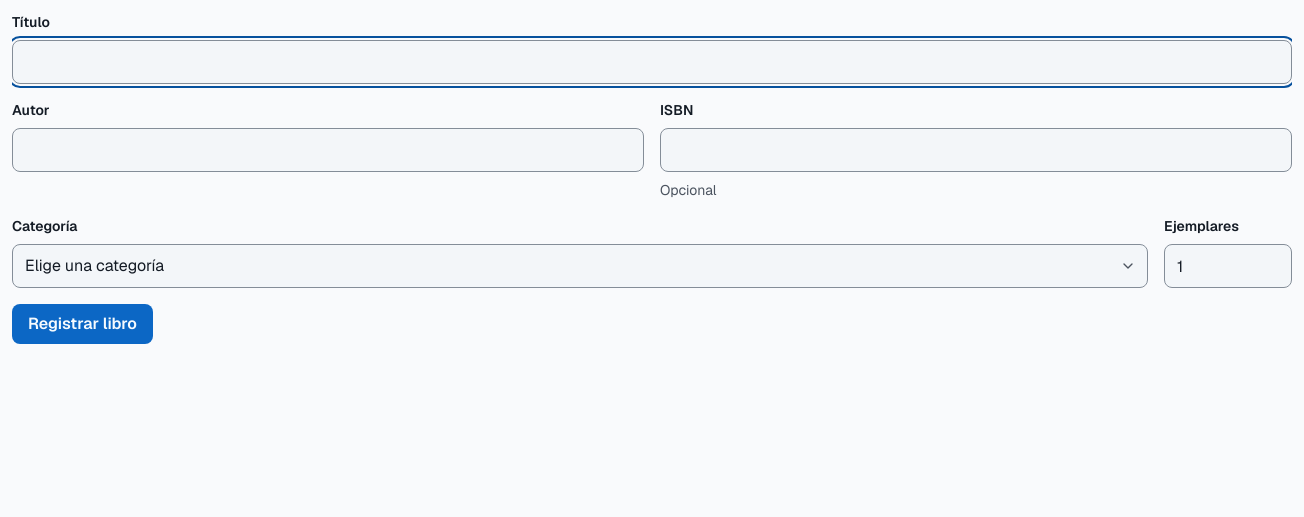
Test: BookIntakeForm › shows a refused extra copy under the matches
The width and height of the screenshot is (1304, 517).
Type "Mecánica" into the field labelled "Título".
click(652, 62); type("Mecánica")  # box [12, 40, 1292, 84]
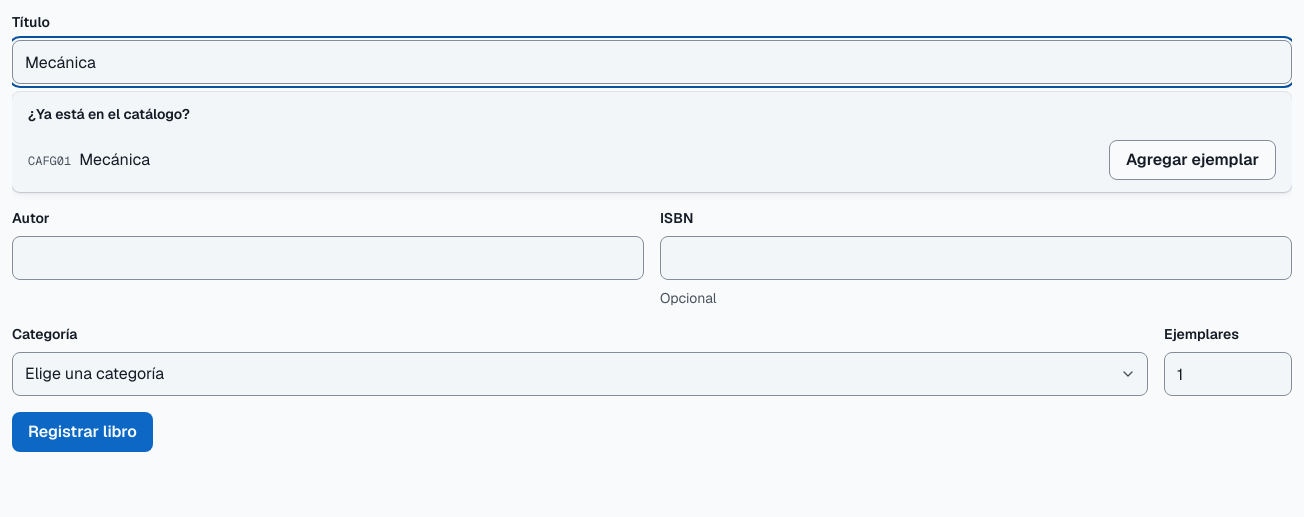
Click the button "Agregar ejemplar".
click(1192, 160)  # box [1109, 140, 1276, 180]
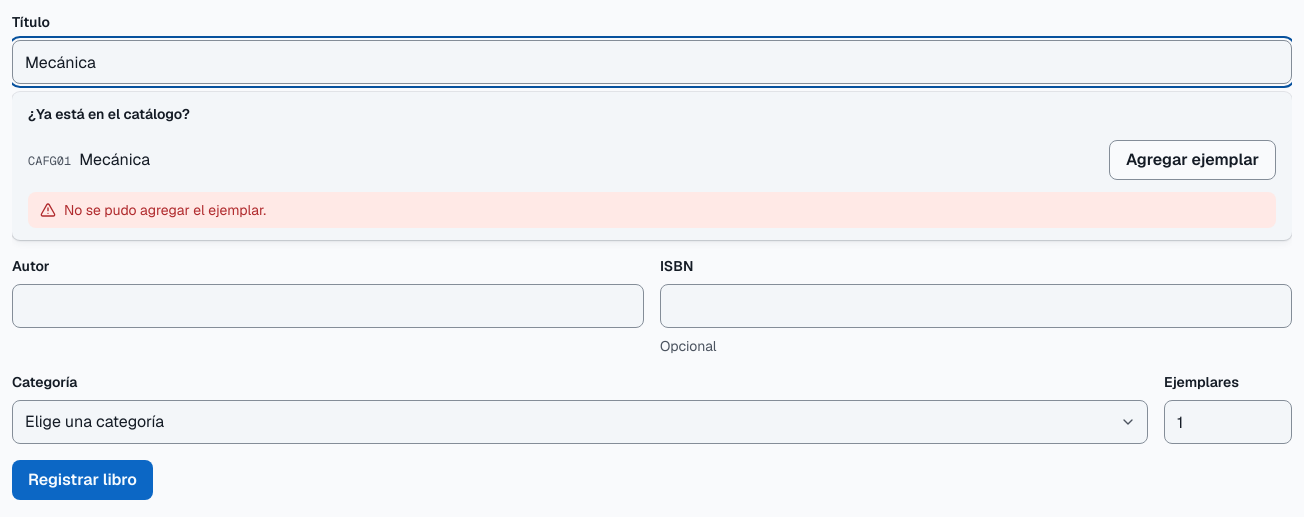
Now the button "Agregar ejemplar" is shown, box [1109, 140, 1276, 180]
Now the message reads "No se pudo agregar el ejemplar.", box [64, 201, 266, 219]
